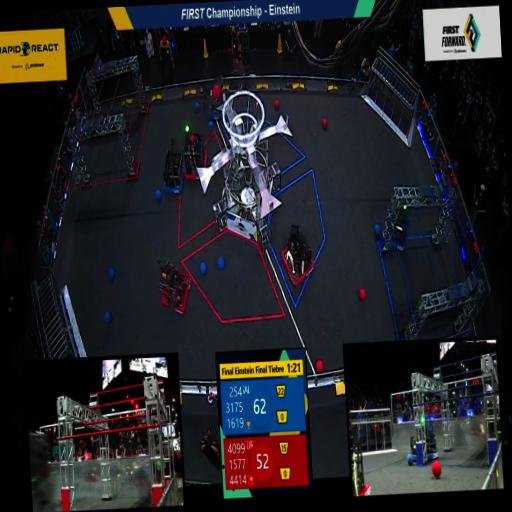robot: (278, 224, 318, 288), (154, 254, 195, 316), (182, 130, 212, 182), (385, 205, 411, 254), (160, 146, 186, 194), (352, 442, 372, 499), (200, 82, 227, 123), (410, 424, 440, 460)
